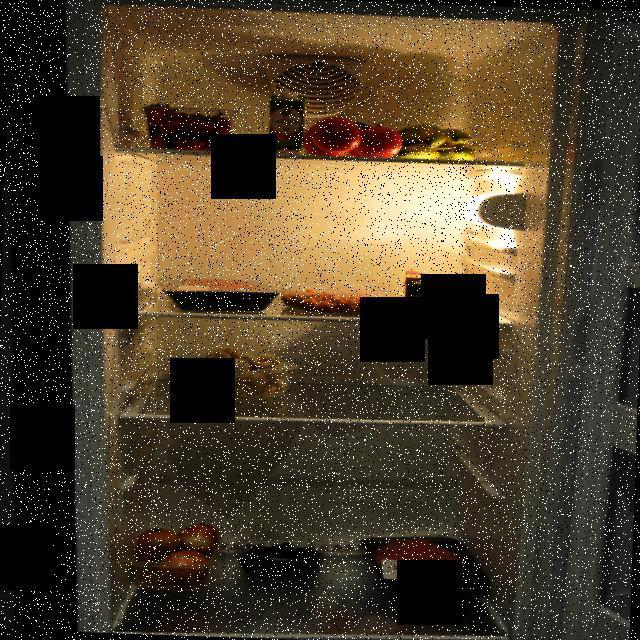banana: (396, 124, 477, 160)
blueberries: (242, 534, 321, 578)
cheese: (396, 266, 452, 305)
ground_beef: (356, 530, 496, 597)
heavy_cream: (266, 89, 308, 155)
mushrooms: (170, 346, 297, 406)
onion: (133, 518, 219, 586)
shrimp: (280, 286, 376, 312)
strawberries: (143, 97, 236, 151)
tomato: (299, 111, 404, 160)
